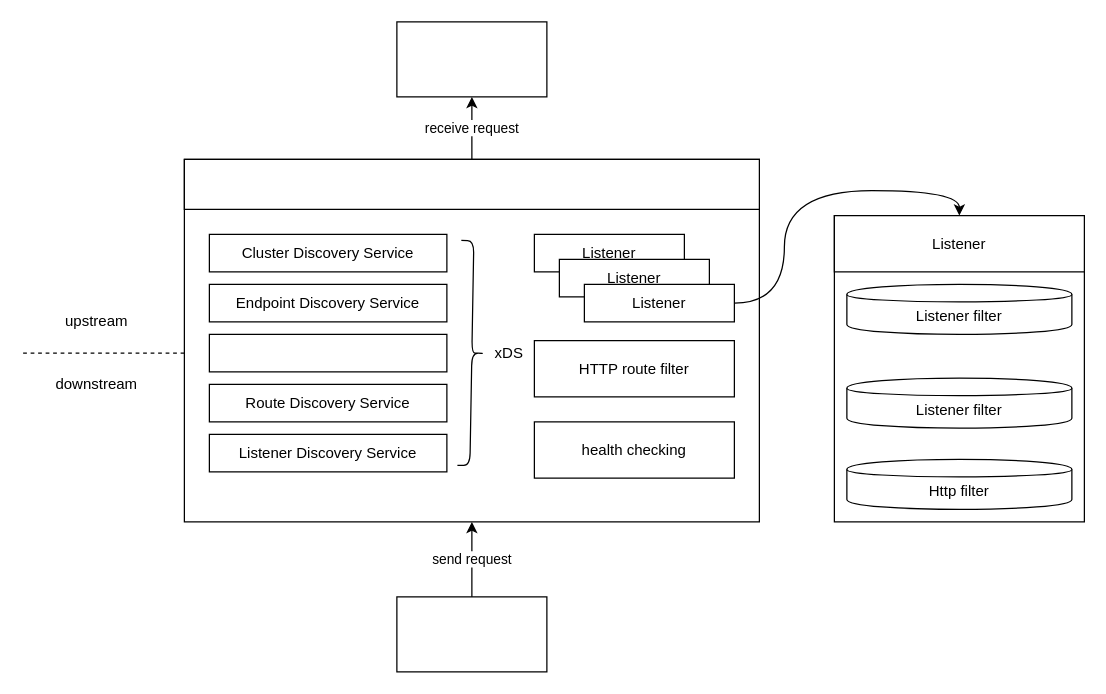
Some shapes in this 1106 by 694 pixel diagram are drawn without their labels. The centre of each missing label's shape, as x and y in pixels:
Envoy: [471,183]
Host A: [471,59]
Host B: [471,634]
Service Discovery Service: [327,352]
